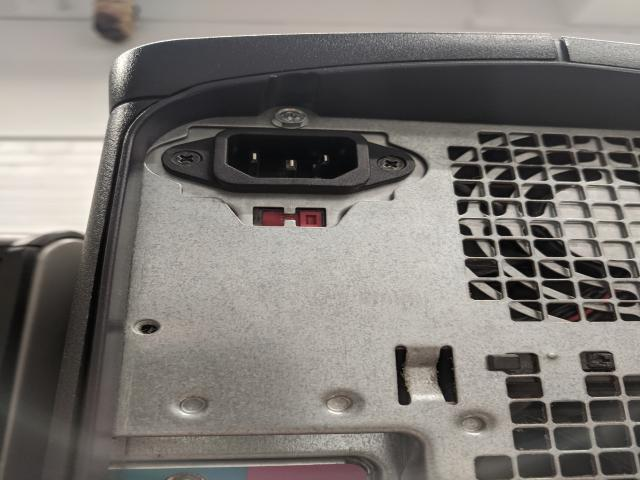CRS: (270, 106, 310, 128), (379, 155, 410, 174), (168, 150, 204, 166)
